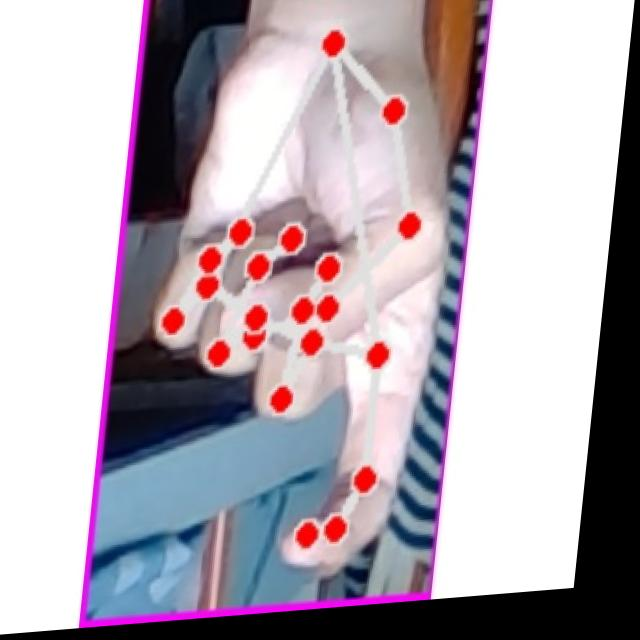X: (131, 10, 476, 598)
